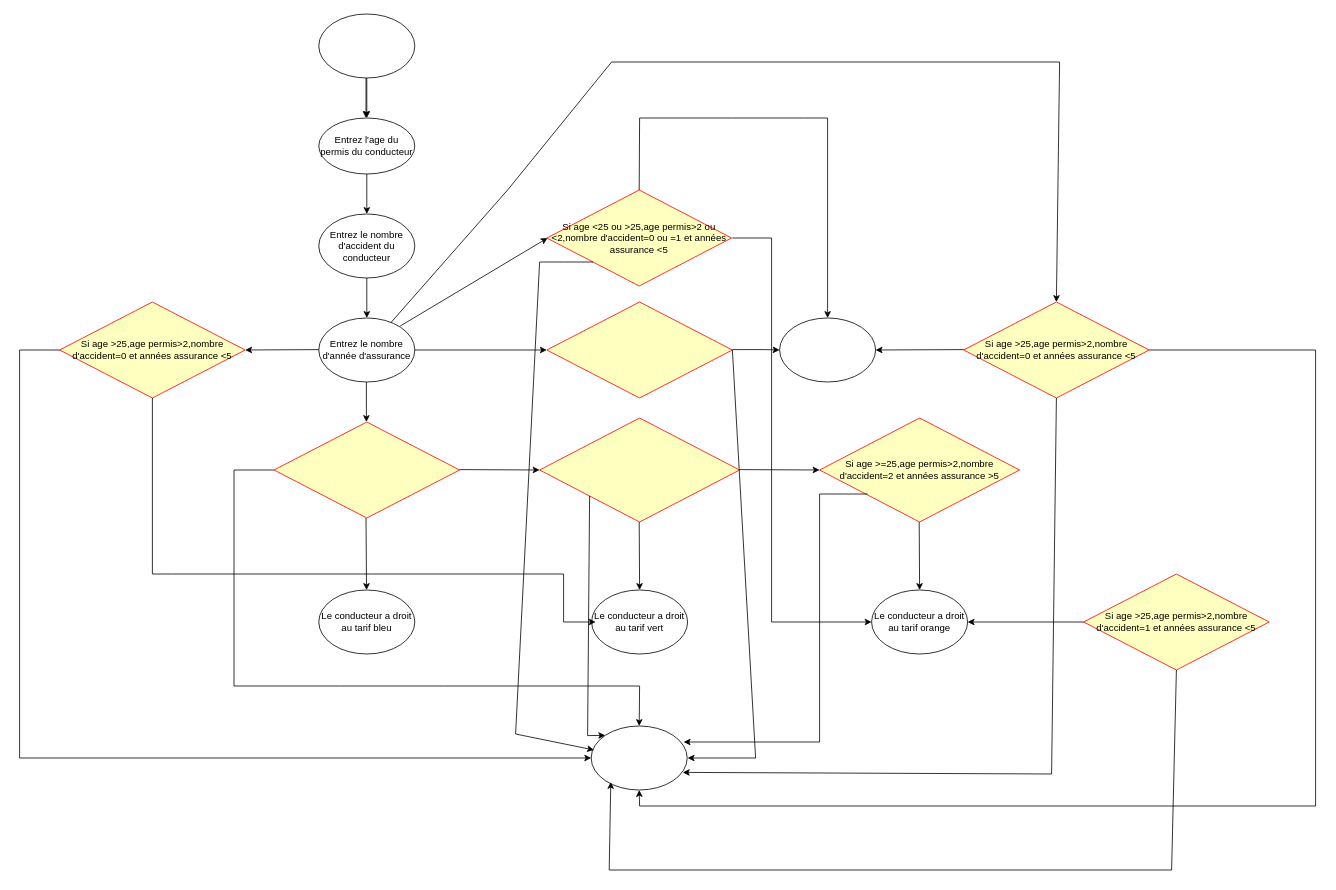
The diagram is 1336 pixels wide and 890 high, and some of its shapes have lost their labels. Here are the shapes that lost their labels. From the top down, the box of each, then its label:
(318, 13, 415, 78): Entrez l'age du conducteur
(546, 301, 732, 398): Si age <=25,age permis<2,nombre d'accident=0 et années assurance <5
(779, 317, 876, 382): Le conducteur a droit au tarif rouge
(273, 421, 460, 518): Si age >=25,age permis>2,nombre d'accident=0 et années assurance >5
(539, 417, 740, 522): Si age >=25,age permis>2,nombre d'accident=1 et années assurance >5
(590, 725, 687, 790): Le conducteur n'est pas assuré
